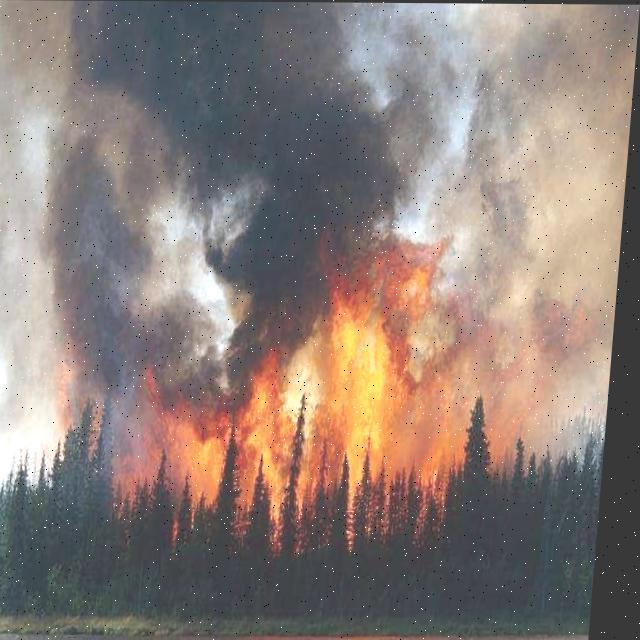Fire: (62, 242, 530, 540)
